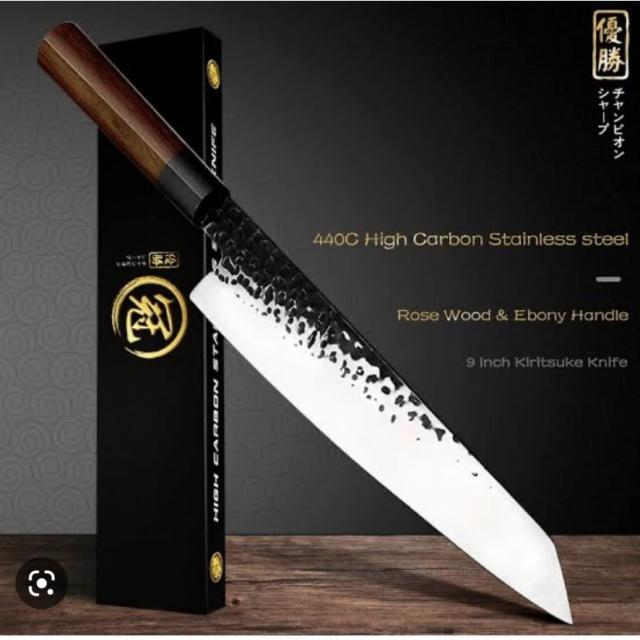Knife: (22, 24, 576, 630)
